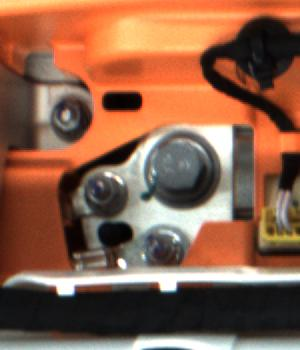nut_b: (146, 132, 228, 209)
screw_s: (49, 97, 95, 150), (143, 232, 180, 263), (84, 173, 120, 200)
